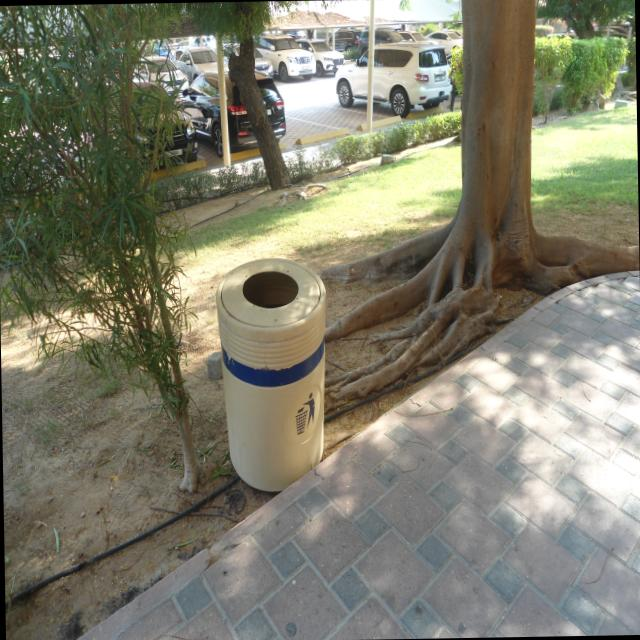car: (373, 41, 451, 117), (179, 72, 222, 155), (226, 75, 256, 145), (334, 51, 368, 106), (256, 73, 285, 137)
dustbin: (216, 257, 325, 491)
path: (78, 271, 640, 640)
tree-chair-bench-table-wall: (320, 0, 639, 342), (0, 3, 198, 492), (185, 0, 289, 187)
